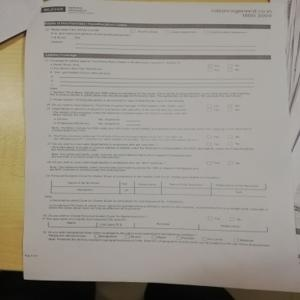image: (39, 5, 70, 15)
table: (47, 173, 269, 199)
text: (44, 58, 267, 174)
